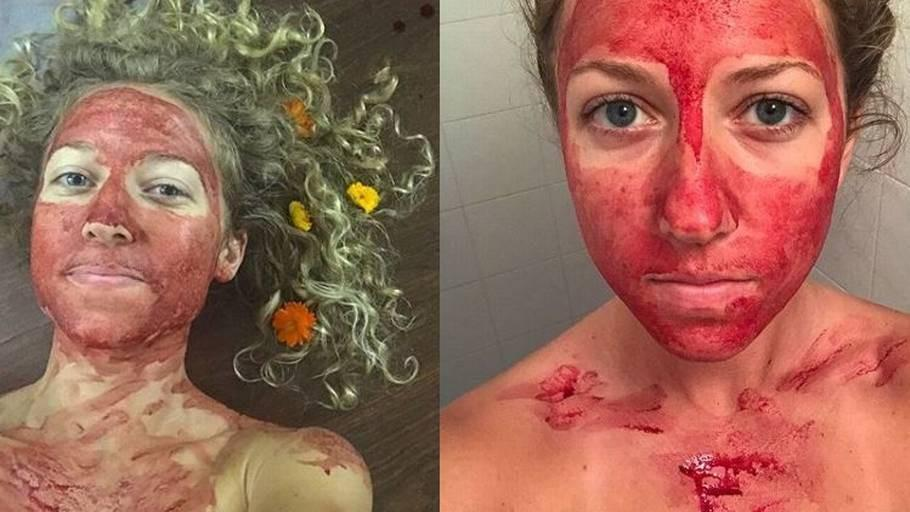Fire: (526, 0, 910, 512), (0, 85, 380, 512)
